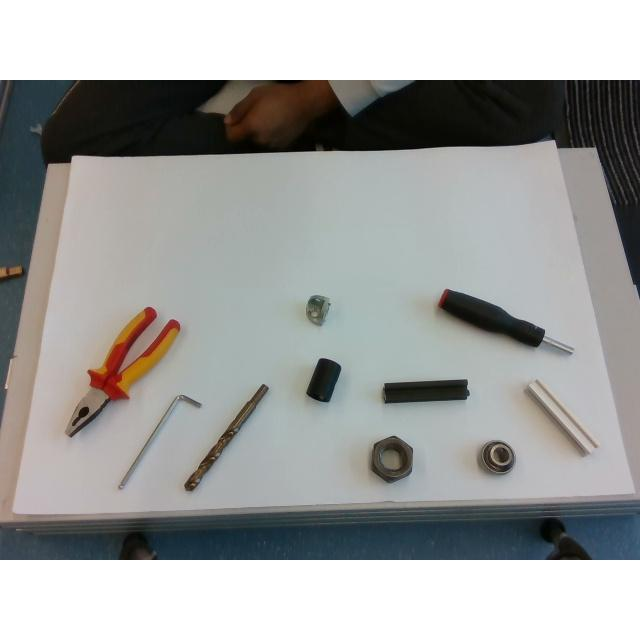Bearing2: (478, 440, 514, 472)
Drill: (184, 385, 268, 491)
F20_20_B: (383, 379, 469, 403)
F20_20_G: (525, 379, 599, 455)
M30: (372, 436, 412, 482)
